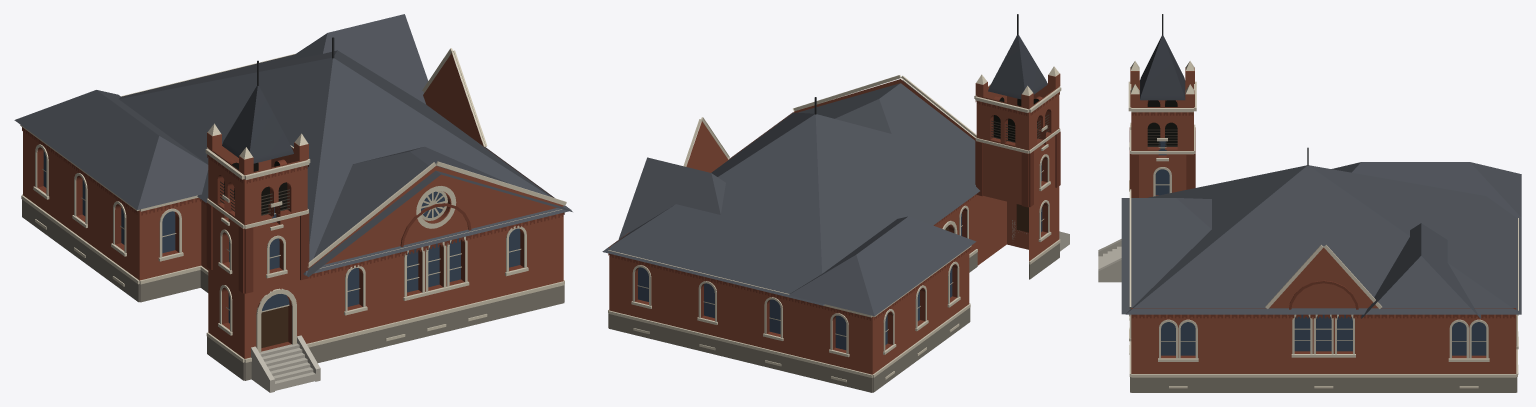
The model's file is ch-scott-street-church-of-christ-1961.glb.
3 views of the same model, side by side, from view 1: azimuth 30°, elevation 25°; view 2: azimuth 150°, elevation 25°; view 3: azimuth 270°, elevation 25° (orthographic). The views are drawn at different scales.
Visible parts, largest first — view 1: ch_roof, ch_brick, ch_trim, ch_brick2, ch_base, ch_stain, ch_roof2, ch_conc, ch_door, ch_shadow; view 2: ch_roof, ch_brick, ch_trim, ch_base, ch_brick2, ch_roof2, ch_stain, ch_shadow; view 3: ch_roof, ch_brick, ch_trim, ch_base, ch_stain, ch_brick2, ch_roof2, ch_conc, ch_shadow.
Boxes of the visible parts, x1,y1,x2,y2 form: ch_roof: (14, 14, 572, 276); ch_brick: (23, 53, 563, 358); ch_trim: (20, 48, 566, 362); ch_brick2: (22, 127, 564, 351); ch_base: (22, 199, 564, 380); ch_stain: (43, 151, 520, 323); ch_roof2: (222, 86, 293, 163); ch_conc: (251, 335, 320, 392); ch_door: (261, 306, 288, 347); ch_shadow: (224, 161, 287, 214); ch_roof: (602, 80, 979, 316); ch_brick: (609, 73, 1060, 374); ch_trim: (608, 66, 1061, 382); ch_base: (608, 243, 1059, 392); ch_brick2: (608, 92, 1060, 352); ch_roof2: (988, 35, 1047, 99); ch_stain: (638, 163, 1042, 349); ch_shadow: (993, 97, 1045, 141); ch_roof: (1121, 162, 1521, 318); ch_brick: (1130, 67, 1516, 373); ch_trim: (1128, 61, 1518, 388); ch_base: (1130, 377, 1517, 392); ch_stain: (1155, 141, 1486, 355); ch_brick2: (1129, 100, 1515, 358); ch_roof2: (1140, 35, 1185, 100); ch_conc: (1098, 239, 1121, 282); ch_shadow: (1147, 100, 1177, 146).
Bounding box in the file's own units: 21.05 × 18.06 × 26.95.
